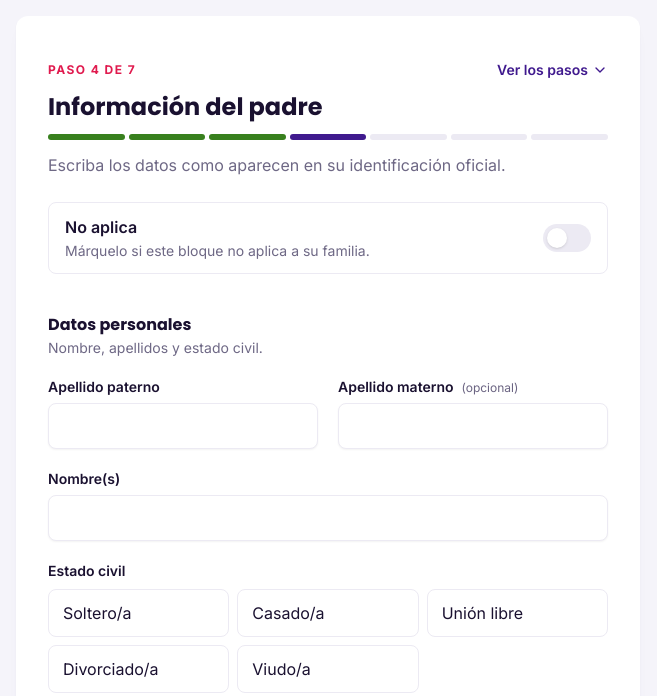
it: short titled blocks › «No aplica» folds the four blocks away
Expected: the heading named "Paso 4 de 7: Información del padre" is shown, x1=47 y1=89 x2=322 y2=123
Step 1. Click the switch labelled "No aplica Márquelo si este bloque no aplica a su familia." → (101, 227), box x1=48 y1=202 x2=608 y2=274
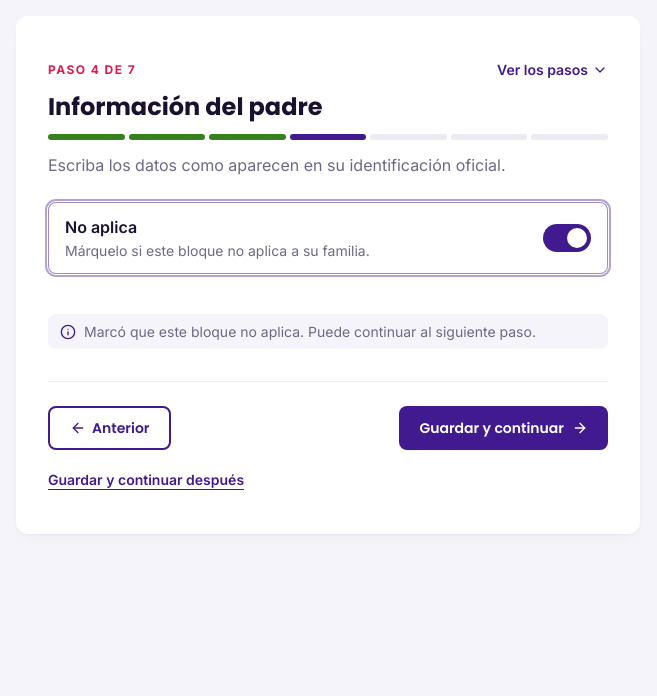
Expected: the text "Marcó que este bloque no aplica" is shown, x1=84 y1=323 x2=536 y2=340
Expected: the heading "Datos personales" is gone
